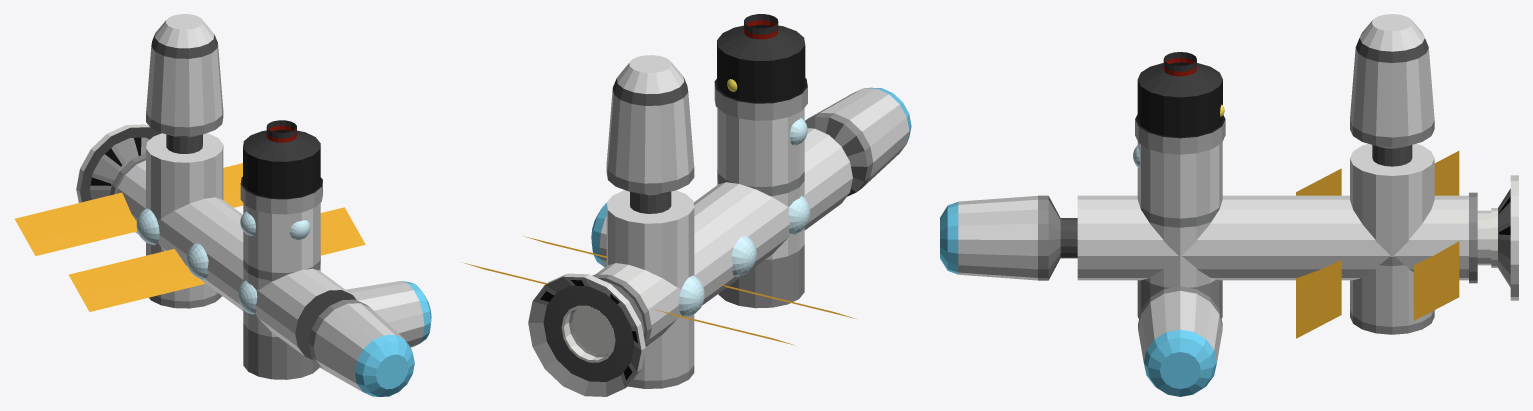
Rendered from Estacao.glb.
3 renders of one model, left to right at view 1: azimuth 30°, elevation 25°; view 2: azimuth 150°, elevation 25°; view 3: azimuth 270°, elevation 25°, orthographic. The views are drawn at different scales.
Parts seen in each view (by area): view 1: Estacao; view 2: Estacao; view 3: Estacao.
Boxes of the visible parts, x1,y1,x2,y2 form: Estacao: [14, 14, 431, 396]; Estacao: [463, 14, 911, 396]; Estacao: [940, 14, 1518, 396].
Size of the model in its own units: 8.28 by 8.11 by 13.65.
Materials: 1 (1 with a texture image).
